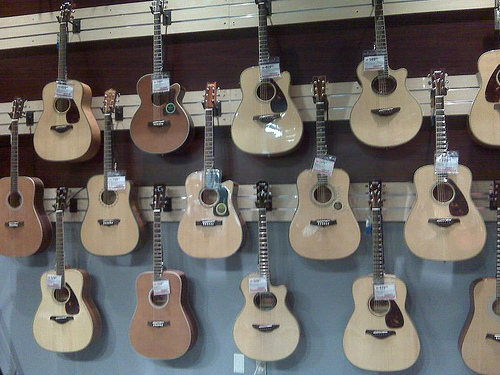guitar: (401, 67, 489, 263), (342, 176, 422, 373), (285, 73, 363, 266), (230, 178, 303, 367), (126, 180, 200, 364), (174, 80, 249, 259), (29, 182, 104, 355), (79, 88, 150, 259), (229, 1, 304, 158), (348, 1, 424, 148), (33, 1, 100, 162), (128, 1, 193, 157), (1, 94, 54, 262)
